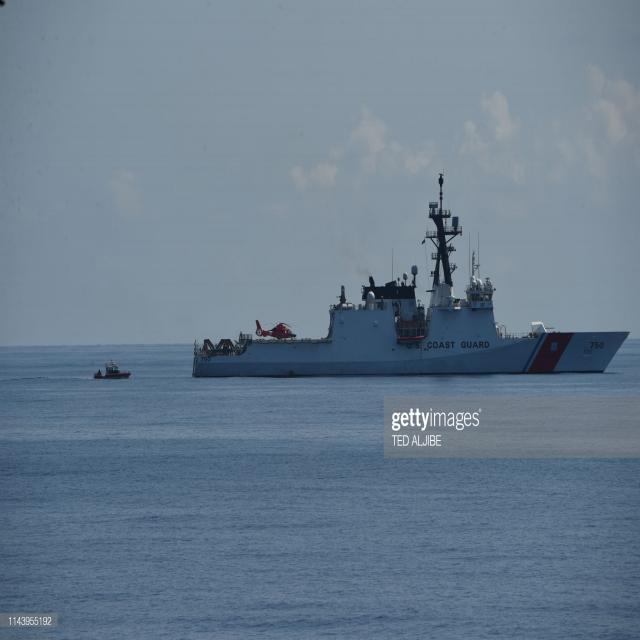Ship: (205, 189, 628, 378), (89, 358, 134, 380)
